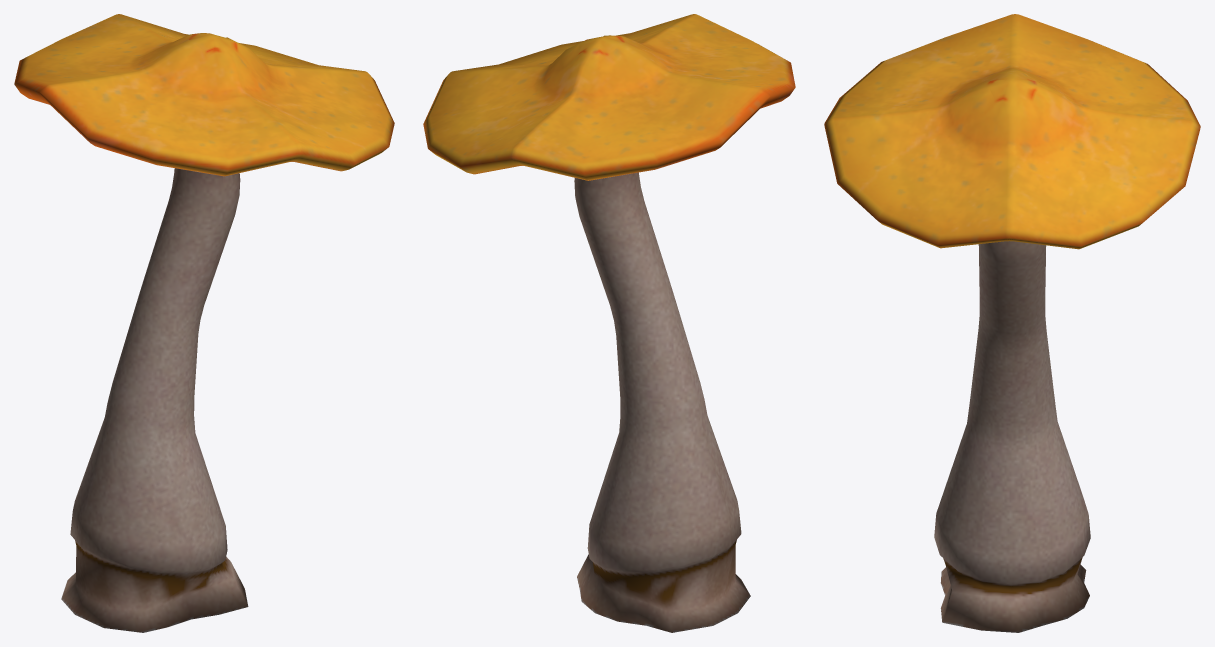
File: Hongo2.obj
3 views of the same model, side by side, from view 1: azimuth 30°, elevation 25°; view 2: azimuth 150°, elevation 25°; view 3: azimuth 270°, elevation 25° (orthographic).
Visible parts, largest first — view 1: Circle_Circle.001; view 2: Circle_Circle.001; view 3: Circle_Circle.001.
Part boxes in pixels (x1,y1,x2,y2): Circle_Circle.001: [14, 14, 394, 632]; Circle_Circle.001: [423, 14, 795, 632]; Circle_Circle.001: [824, 14, 1200, 632].
Size of the model in its own units: 2.2 by 3.48 by 2.19.
1 material, 1 textured.
